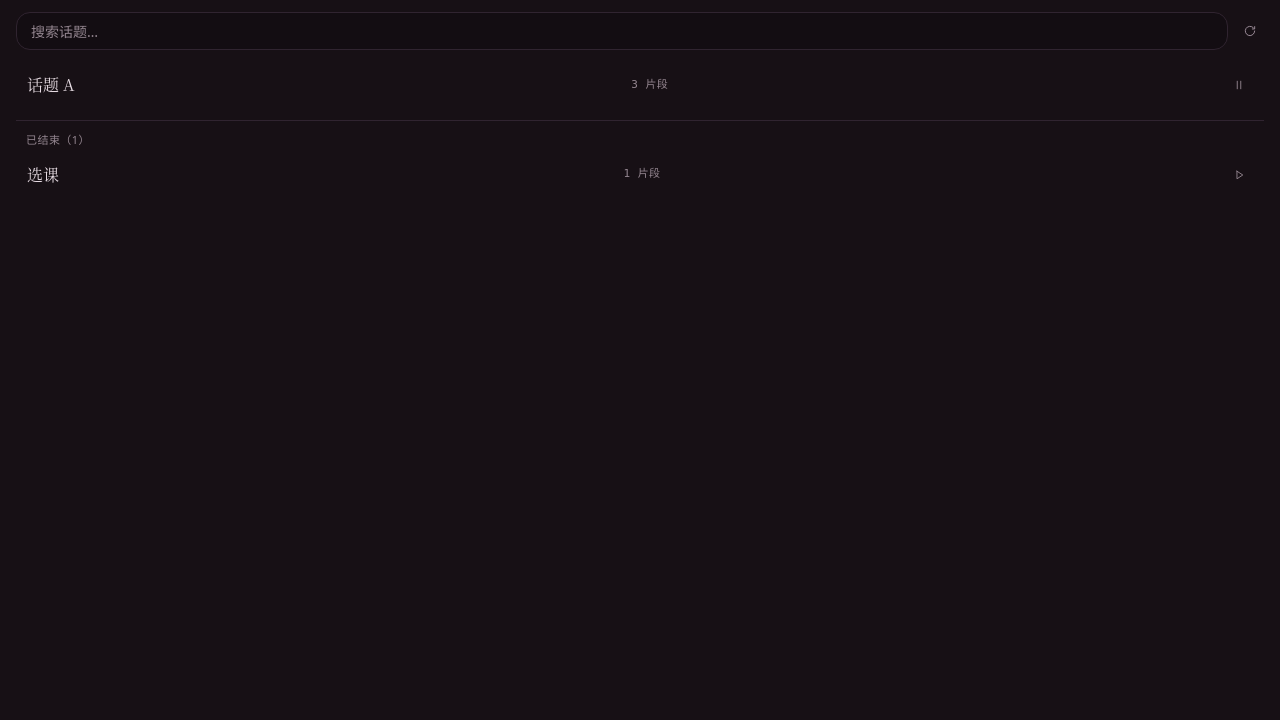
Test: 记忆标签页：话题概览 › 点击话题：先让星球聚焦（浏览），再读概览；不碰锚点
Step 1. Click the option "话题 A 3 片段" → x=640, y=85, box x1=16 y1=62 x2=1264 y2=108
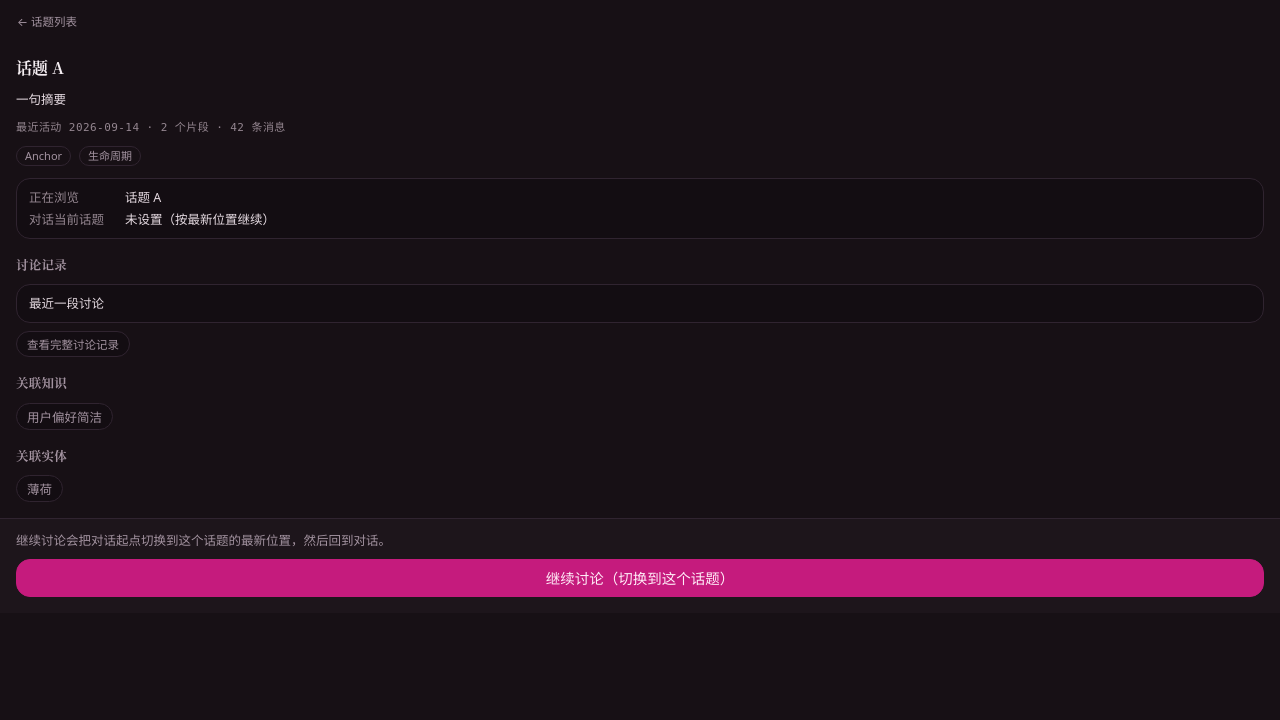
Now the text with class "mt-summary" reads "一句摘要", box x1=16 y1=91 x2=66 y2=108
Now the text with class "mt-facts" shows "2 个片段", box x1=16 y1=121 x2=286 y2=134
Now the text with class "mt-facts" shows "42 条消息", box x1=16 y1=121 x2=286 y2=134
